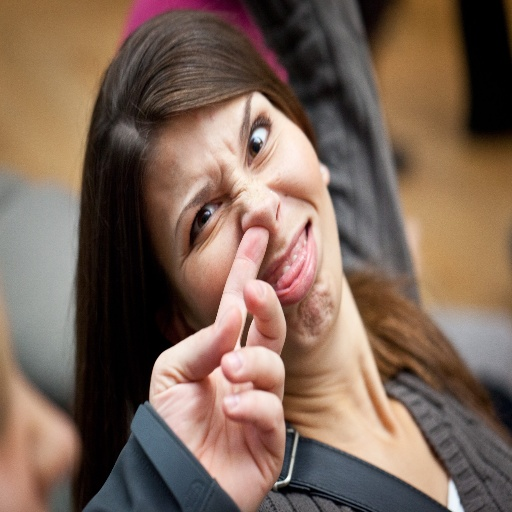hand: (146, 238, 308, 494)
